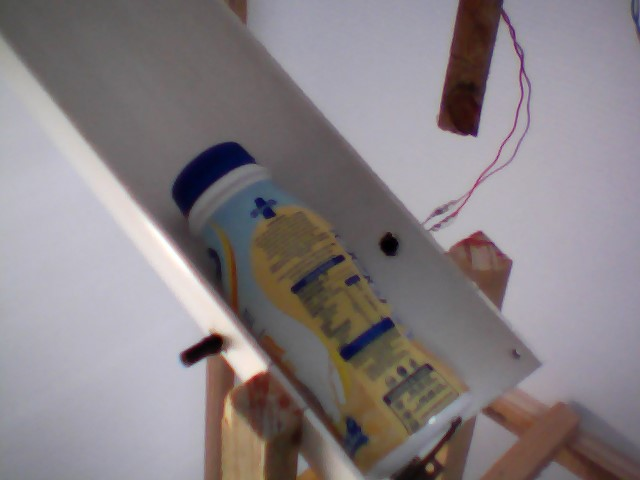plastico: (166, 133, 487, 480)
